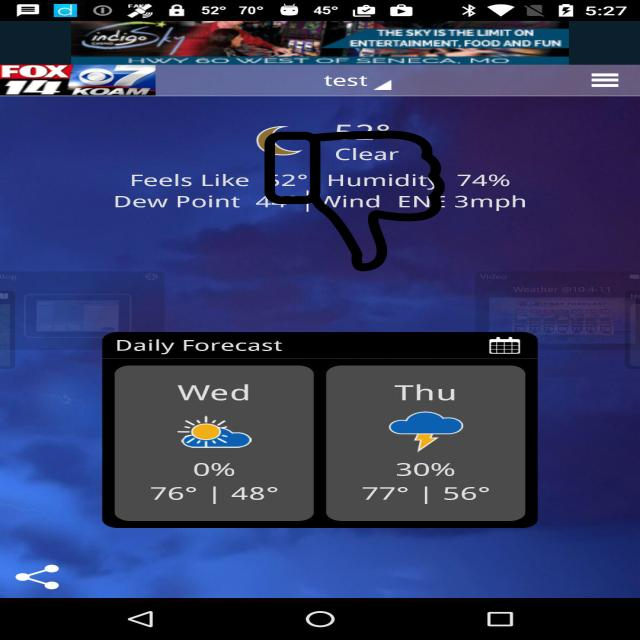obstruction: (262, 131, 447, 271)
